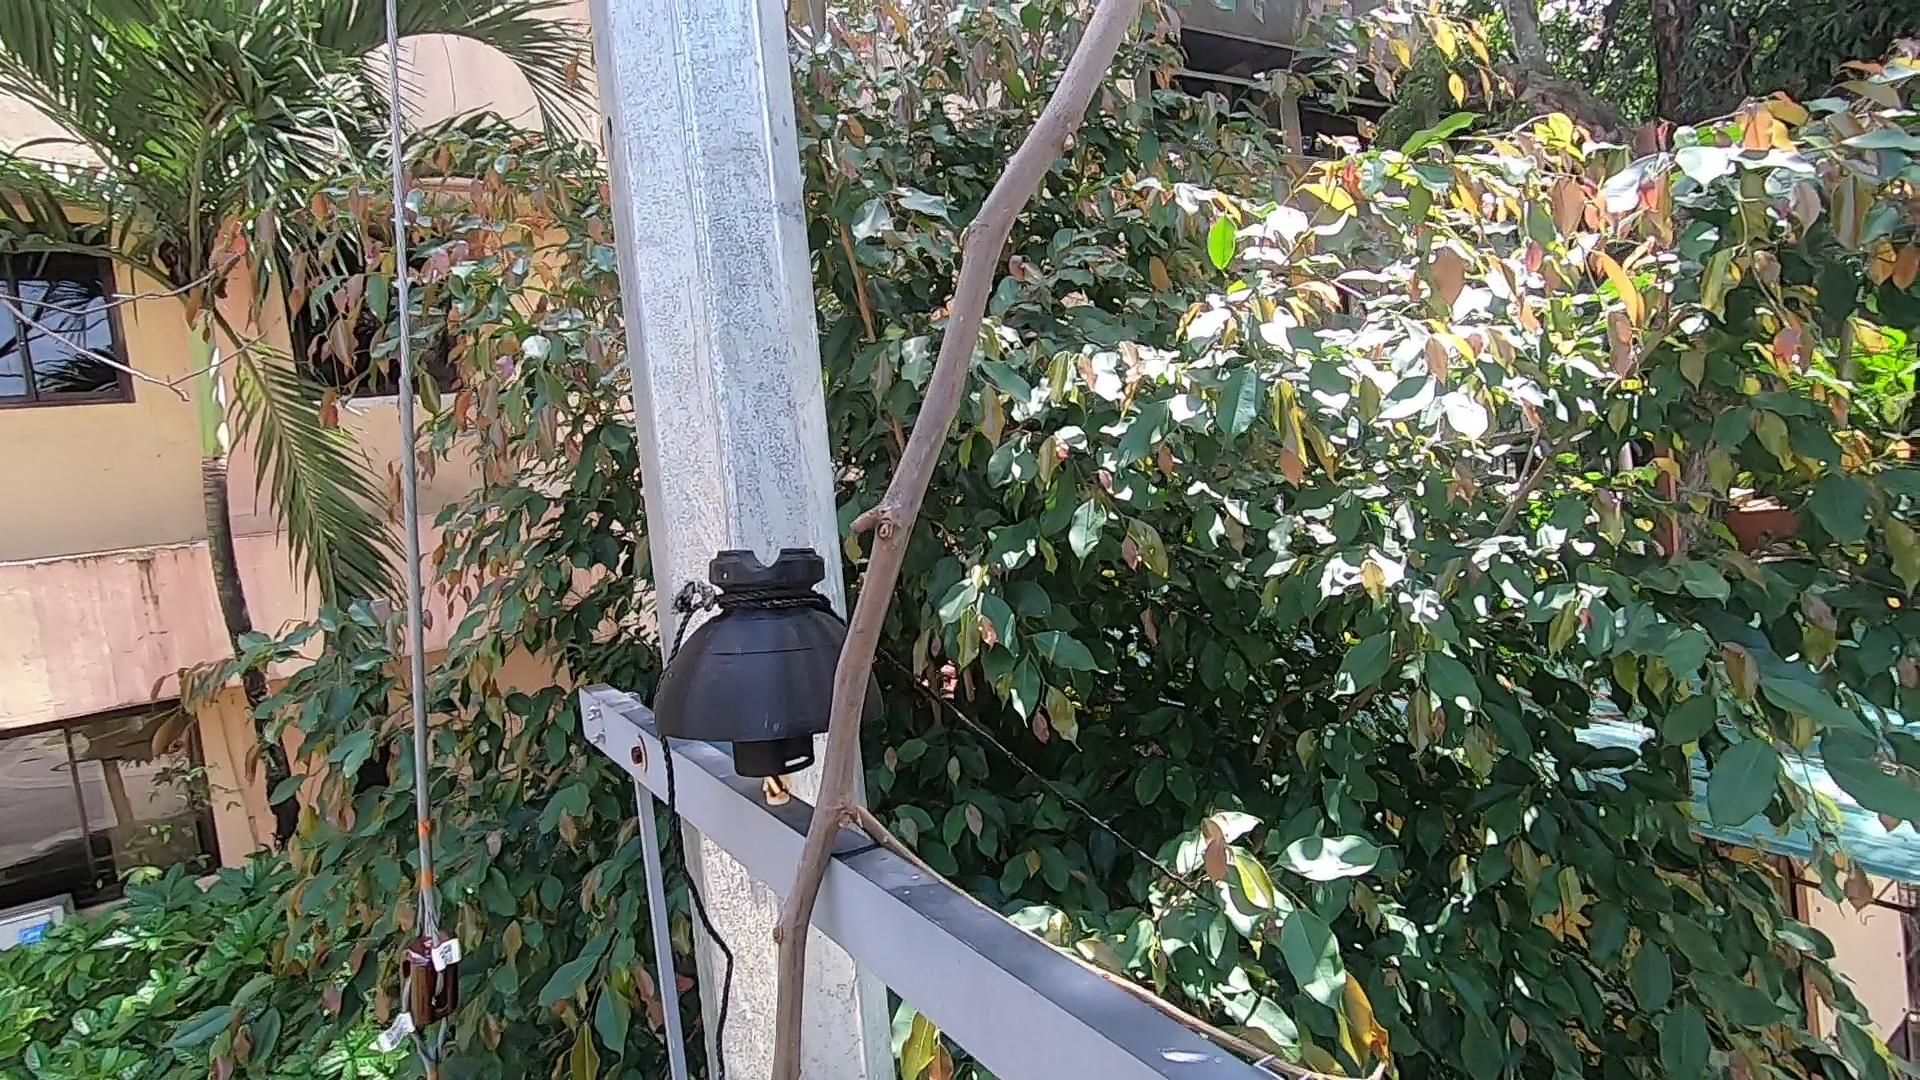tree branch: (708, 7, 1097, 1080)
